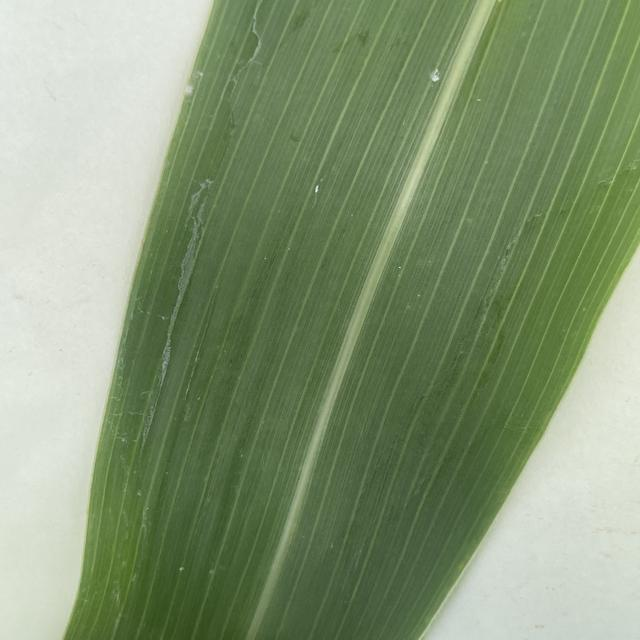millet_healthy: (55, 0, 640, 640)
